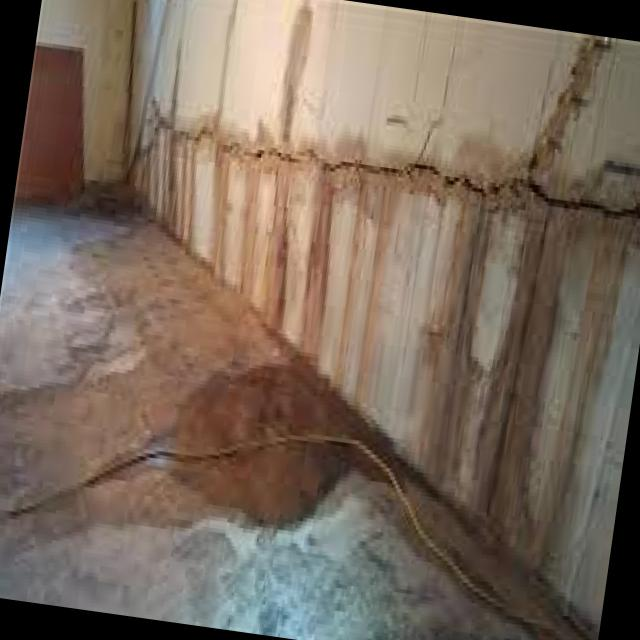crack: (138, 107, 640, 228)
